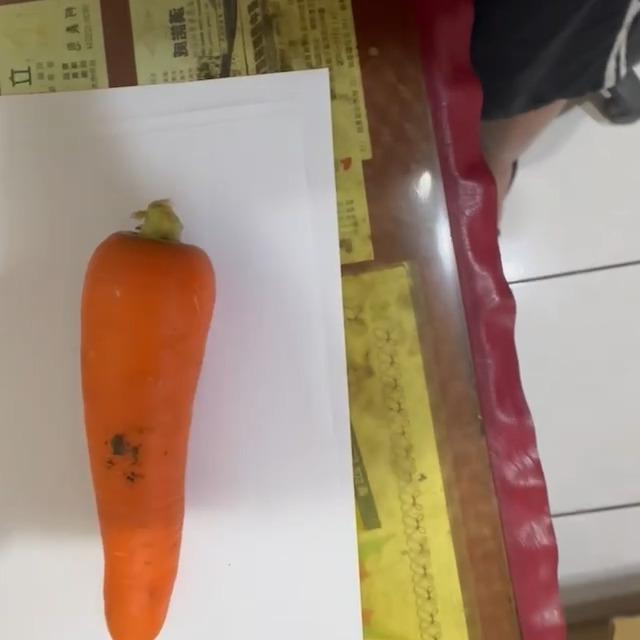carrot: (80, 201, 218, 640)
